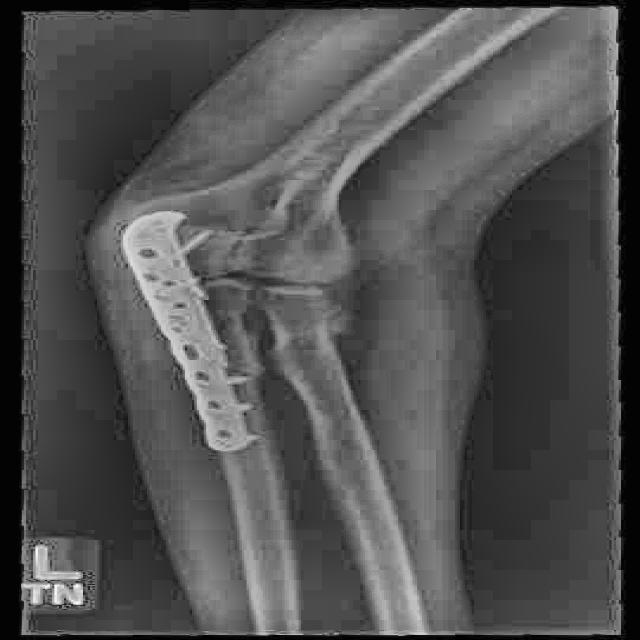elbow positive: (199, 130, 375, 273)
